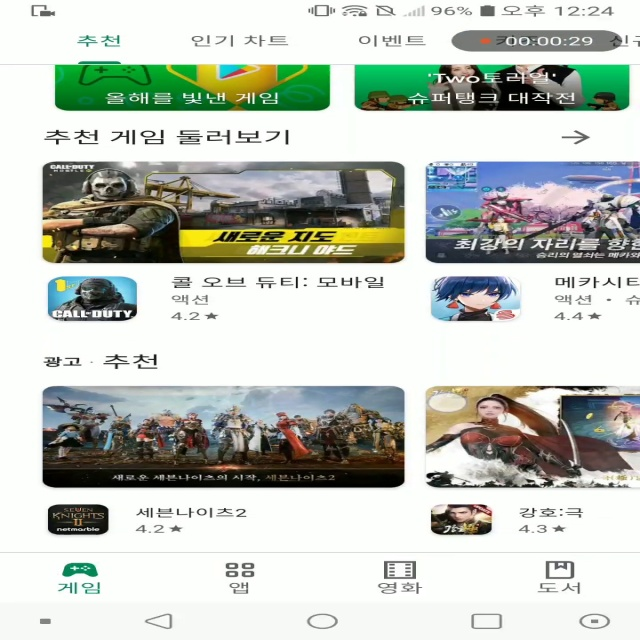Cursor: (426, 392, 471, 414)
